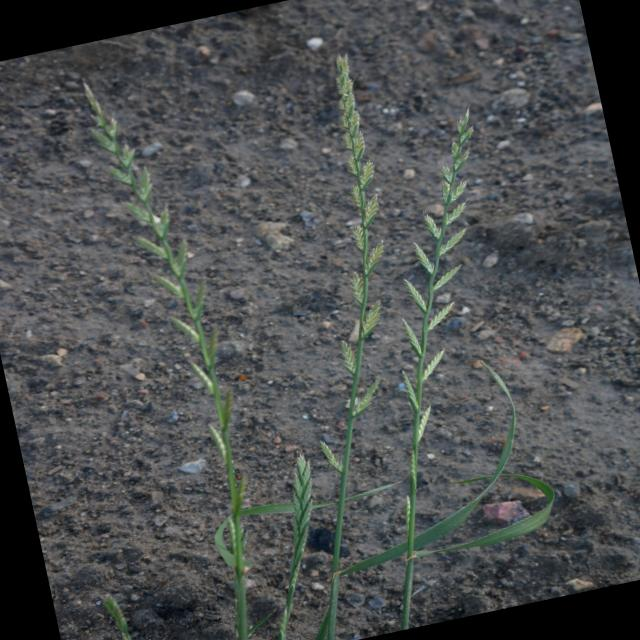Lolium: (68, 0, 582, 640), (280, 112, 575, 634), (242, 50, 472, 610), (71, 71, 287, 640)
